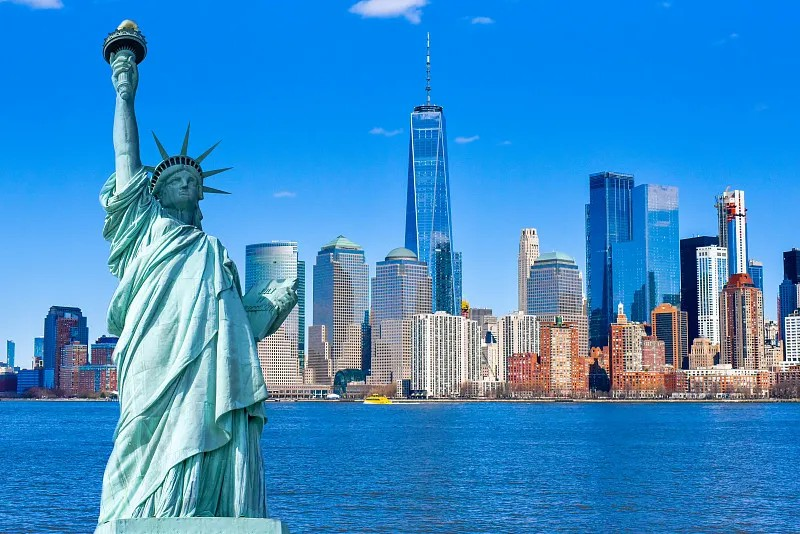SL: (93, 20, 300, 534)
